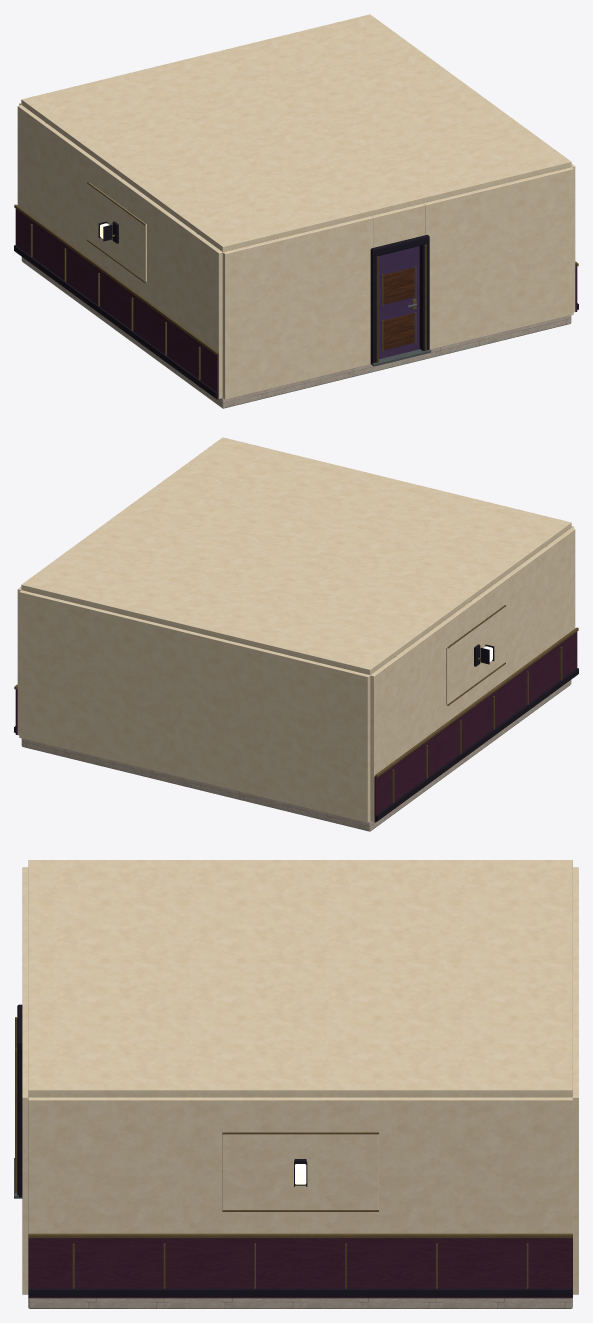
Rendered from explore3d__laundry_room.glb.
3 views of the same model, one above another, from view 1: azimuth 30°, elevation 25°; view 2: azimuth 150°, elevation 25°; view 3: azimuth 270°, elevation 25° (orthographic). The views are drawn at different scales.
Parts seen in each view (by area): view 1: ceiling_surface.011, front_wall.035, front_wall.033, left_wall.027, left_wainscot.019, floor.012, left_upper_inset.019, laundry_room_leaf, front_wall.034, left_skirt.019, laundry_room_jamb.001, left_rail.019 (+4 smaller); view 2: ceiling_surface.011, back_wall.021, left_wall.027, left_wainscot.019, floor.012, left_upper_inset.019, left_skirt.019, left_rail.019; view 3: ceiling_surface.011, right_wall.027, right_wainscot.019, right_upper_inset.019, floor.012, right_skirt.019, right_rail.019, back_wall.021, front_wall.033, laundry_room_jamb.001, front_wall.035.
Part boxes in pixels (x1=…): ceiling_surface.011: x1=21, y1=14, x2=571, y2=251; front_wall.035: x1=222, y1=216, x2=373, y2=399; front_wall.033: x1=423, y1=167, x2=573, y2=349; left_wall.027: x1=17, y1=105, x2=222, y2=398; left_wainscot.019: x1=15, y1=208, x2=218, y2=399; floor.012: x1=21, y1=257, x2=571, y2=408; left_upper_inset.019: x1=88, y1=183, x2=146, y2=281; laundry_room_leaf: x1=379, y1=246, x2=419, y2=358; front_wall.034: x1=371, y1=203, x2=424, y2=247; left_skirt.019: x1=14, y1=245, x2=217, y2=397; laundry_room_jamb.001: x1=419, y1=240, x2=429, y2=350; left_rail.019: x1=14, y1=204, x2=217, y2=354; ceiling_surface.011: x1=21, y1=437, x2=571, y2=674; back_wall.021: x1=19, y1=590, x2=370, y2=822; left_wall.027: x1=370, y1=528, x2=575, y2=821; left_wainscot.019: x1=374, y1=631, x2=577, y2=822; floor.012: x1=21, y1=680, x2=571, y2=831; left_upper_inset.019: x1=446, y1=606, x2=504, y2=704; left_skirt.019: x1=375, y1=668, x2=578, y2=820; left_rail.019: x1=375, y1=627, x2=578, y2=777; ceiling_surface.011: x1=28, y1=860, x2=572, y2=1097; right_wall.027: x1=28, y1=1097, x2=572, y2=1233; right_wainscot.019: x1=28, y1=1238, x2=572, y2=1298; right_upper_inset.019: x1=222, y1=1134, x2=378, y2=1209; floor.012: x1=28, y1=1298, x2=572, y2=1308; right_skirt.019: x1=28, y1=1288, x2=572, y2=1296; right_rail.019: x1=28, y1=1233, x2=572, y2=1238; back_wall.021: x1=572, y1=867, x2=578, y2=1294; front_wall.033: x1=22, y1=999, x2=28, y2=1294; laundry_room_jamb.001: x1=17, y1=1047, x2=22, y2=1197; front_wall.035: x1=22, y1=867, x2=28, y2=965.
Bounding box in the file's own units: 8.96 × 3.56 × 8.3.
Materials: 15 (13 with a texture image).
